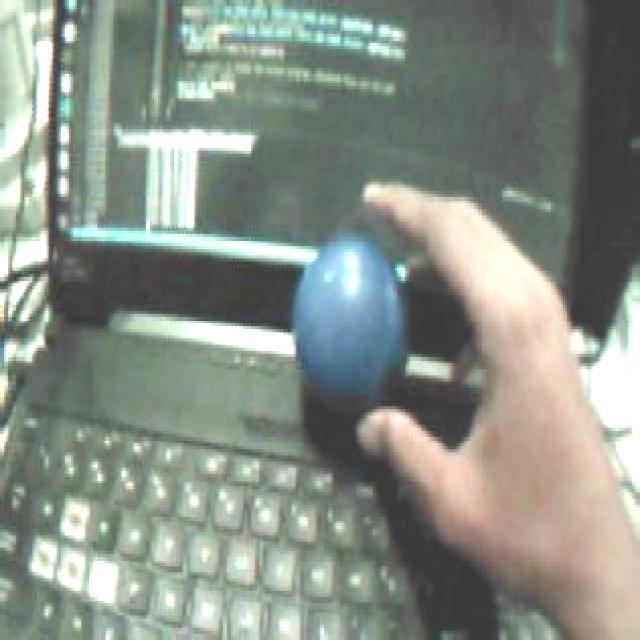BallPurple: (293, 233, 408, 405)
